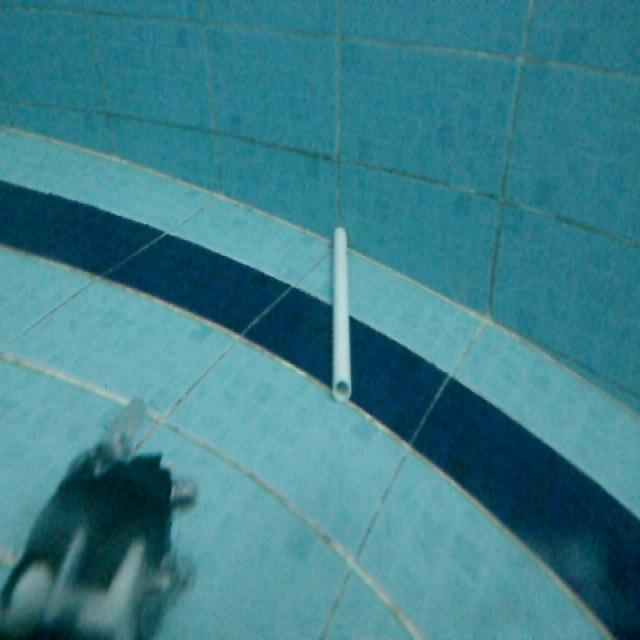Cube: (327, 221, 354, 403)
